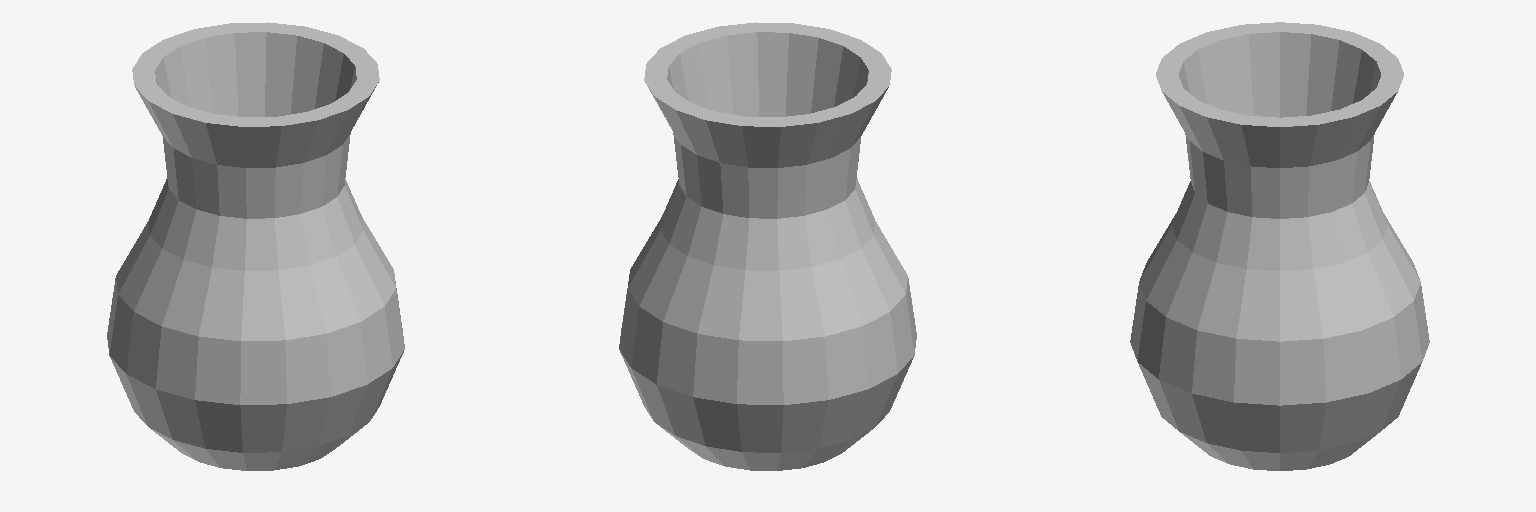
File: vase_01.obj
3 renders of one model, left to right at view 1: azimuth 30°, elevation 25°; view 2: azimuth 150°, elevation 25°; view 3: azimuth 270°, elevation 25°, orthographic.
Visible parts, largest first — view 1: Vase; view 2: Vase; view 3: Vase.
Part boxes in pixels (left/top/right/bottom): Vase: left=107, top=22, right=404, bottom=470; Vase: left=619, top=22, right=916, bottom=470; Vase: left=1130, top=22, right=1429, bottom=470.
Size of the model in its own units: 1.02 by 1.36 by 1.02.